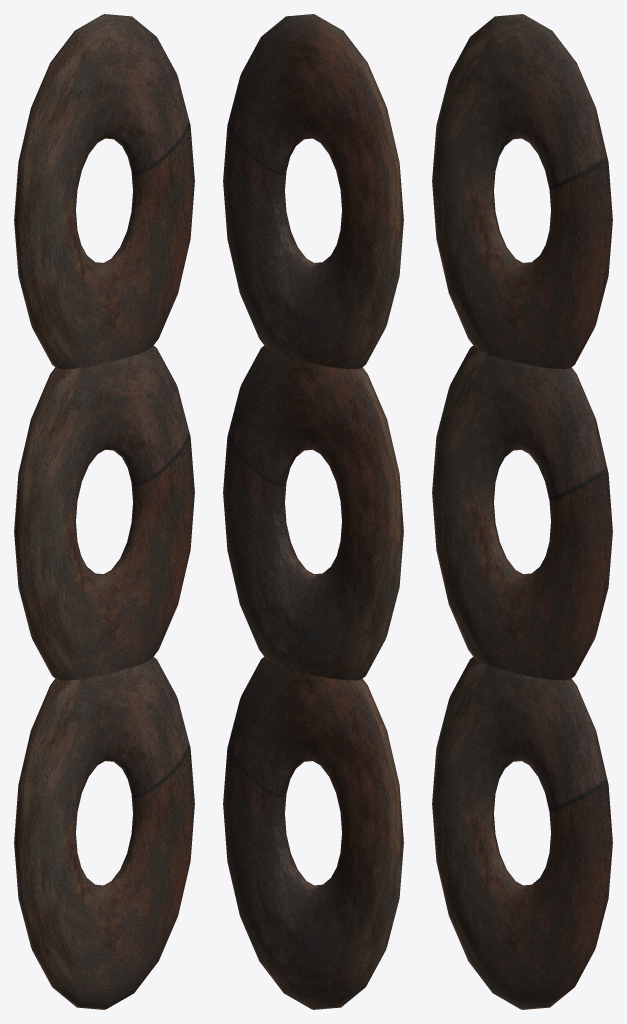
File: chain.fbx
The picture shows the model from 3 angles, left to right: view 1: azimuth 30°, elevation 25°; view 2: azimuth 150°, elevation 25°; view 3: azimuth 330°, elevation 25°; orthographic projection.
Visible parts, largest first — view 1: pTorus3, pTorus1, pTorus2; view 2: pTorus3, pTorus1, pTorus2; view 3: pTorus3, pTorus1, pTorus2.
Boxes of the visible parts, x1,y1,x2,y2 form: pTorus3: [14, 14, 194, 369]; pTorus1: [14, 657, 194, 1009]; pTorus2: [14, 345, 194, 680]; pTorus3: [223, 14, 403, 369]; pTorus1: [223, 657, 403, 1009]; pTorus2: [223, 345, 403, 680]; pTorus3: [432, 14, 612, 369]; pTorus1: [432, 657, 612, 1009]; pTorus2: [432, 345, 612, 680].
Size of the model in its own units: 1.5 by 8 by 0.25.
1 material, 1 textured.
